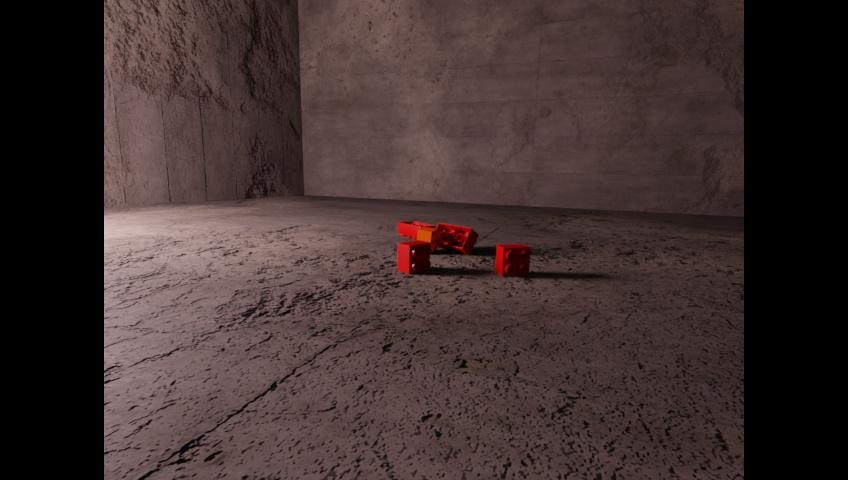2x2_orange: (416, 226, 438, 251)
2x2_red: (397, 239, 430, 273), (495, 243, 530, 275)
4x2_red: (435, 222, 477, 254), (398, 220, 435, 238)
